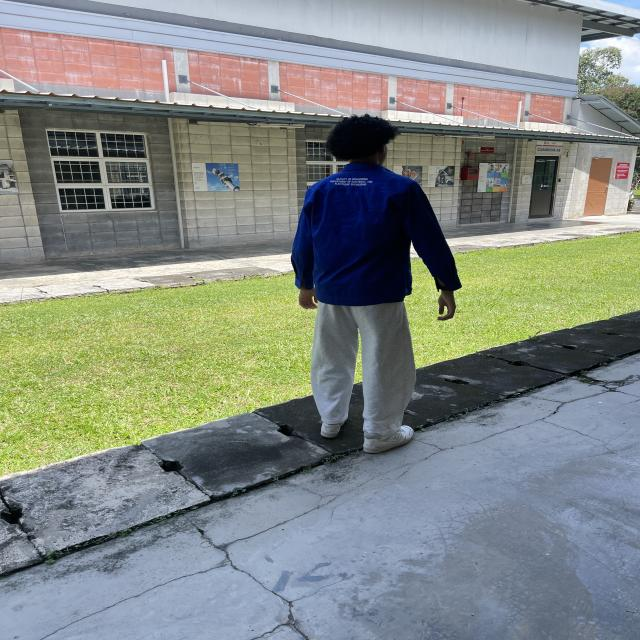person_with_labcoat: (291, 114, 461, 454)
